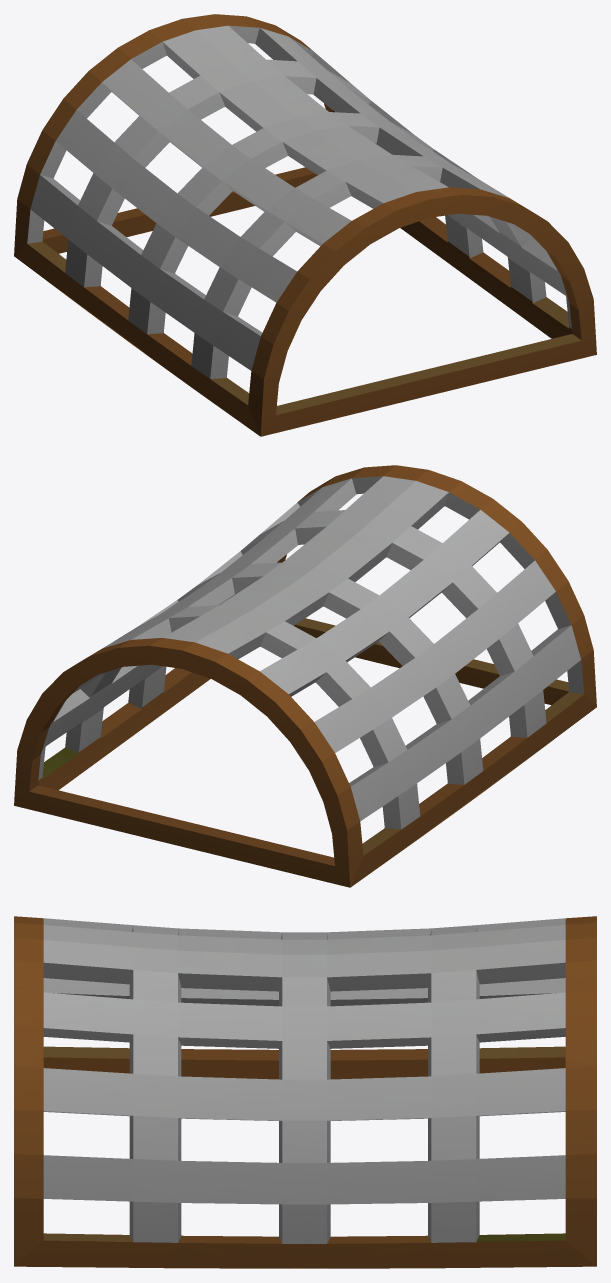
The model's file is basket_medium.glb.
3 renders of one model, top to bottom at view 1: azimuth 30°, elevation 25°; view 2: azimuth 150°, elevation 25°; view 3: azimuth 270°, elevation 25°, orthographic. The views are drawn at different scales.
Visible parts, largest first — view 1: Cylinder.013; view 2: Cylinder.013; view 3: Cylinder.013.
Part boxes in pixels (bbox=[...]): Cylinder.013: bbox=[14, 14, 596, 436]; Cylinder.013: bbox=[14, 465, 596, 887]; Cylinder.013: bbox=[14, 916, 596, 1268].
Bounding box in the file's own units: 1.54 × 0.8673 × 1.96.
Materials: 1 (1 with a texture image).
